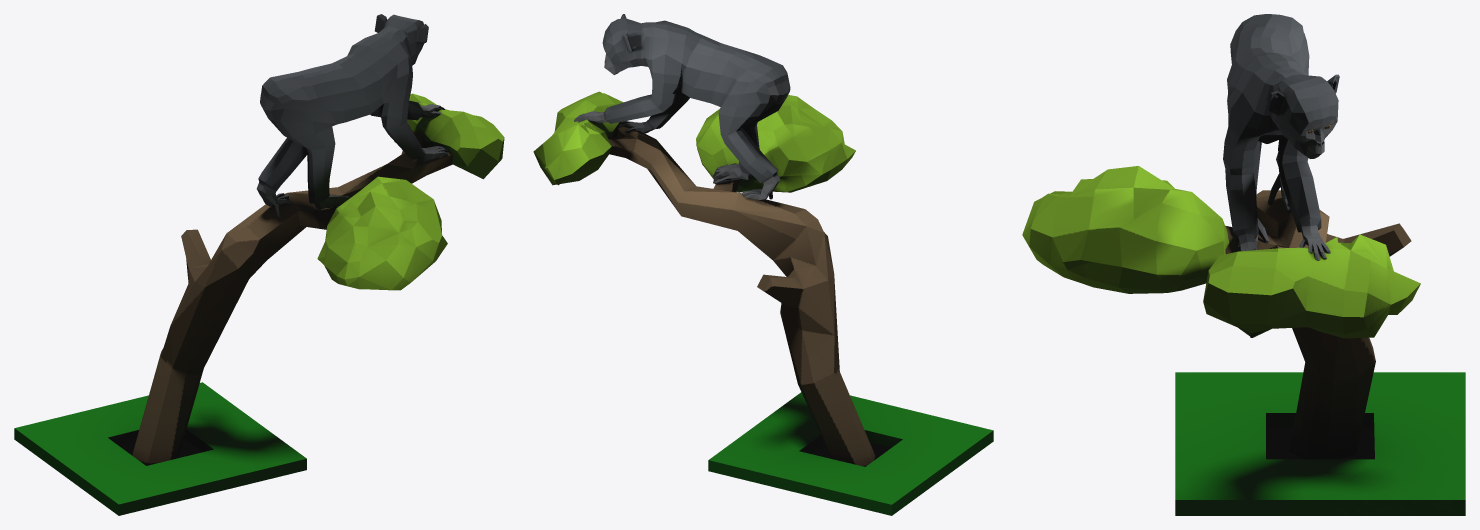
File: proconsul.glb
3 views of the same model, side by side, from view 1: azimuth 30°, elevation 25°; view 2: azimuth 150°, elevation 25°; view 3: azimuth 270°, elevation 25° (orthographic). The views are drawn at different scales.
Size of the model in its own units: 1.88 by 1.72 by 1.27.
1 material, 1 textured.
